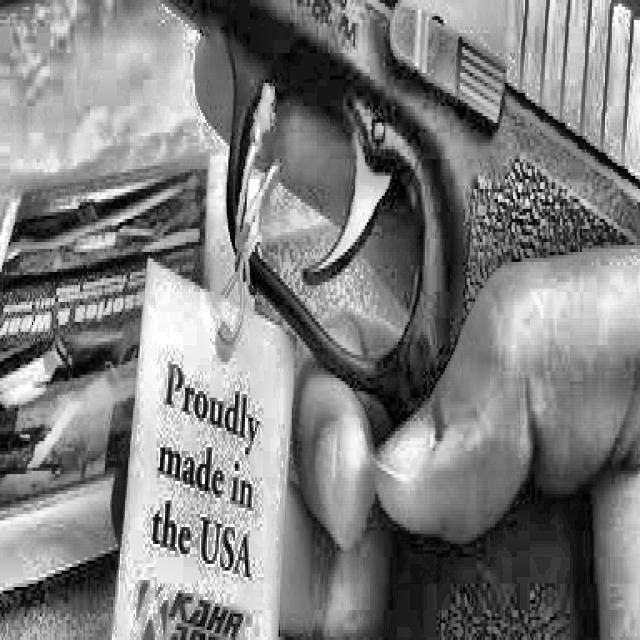Kahr: (120, 0, 640, 640)
